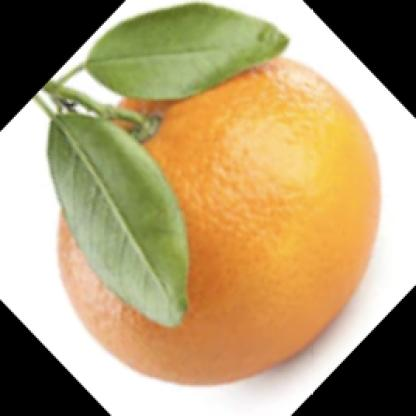fresh: (55, 54, 382, 389)
